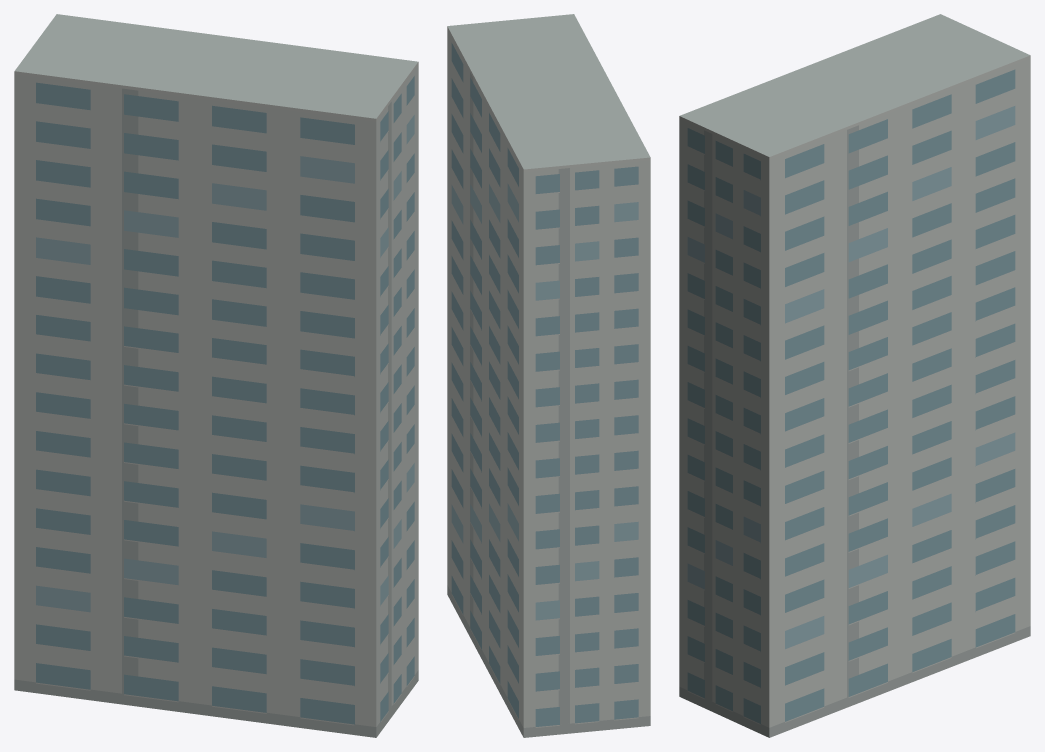
The model's file is residential-fb27c156-fcb2-4d64-b284-3a5c9707078d.glb.
3 renders of one model, left to right at view 1: azimuth 30°, elevation 25°; view 2: azimuth 150°, elevation 25°; view 3: azimuth 270°, elevation 25°, orthographic. The views are drawn at different scales.
Parts seen in each view (by area): view 1: residential-fb27c156-fcb2-4d64-b284-3a5c9707078d.tmp; view 2: residential-fb27c156-fcb2-4d64-b284-3a5c9707078d.tmp; view 3: residential-fb27c156-fcb2-4d64-b284-3a5c9707078d.tmp.
Part boxes in pixels (x1,y1,x2,y2): residential-fb27c156-fcb2-4d64-b284-3a5c9707078d.tmp: [14, 14, 418, 737]; residential-fb27c156-fcb2-4d64-b284-3a5c9707078d.tmp: [447, 14, 650, 737]; residential-fb27c156-fcb2-4d64-b284-3a5c9707078d.tmp: [679, 14, 1030, 737].
Bounding box in the file's own units: 25.39 × 48 × 26.32.
